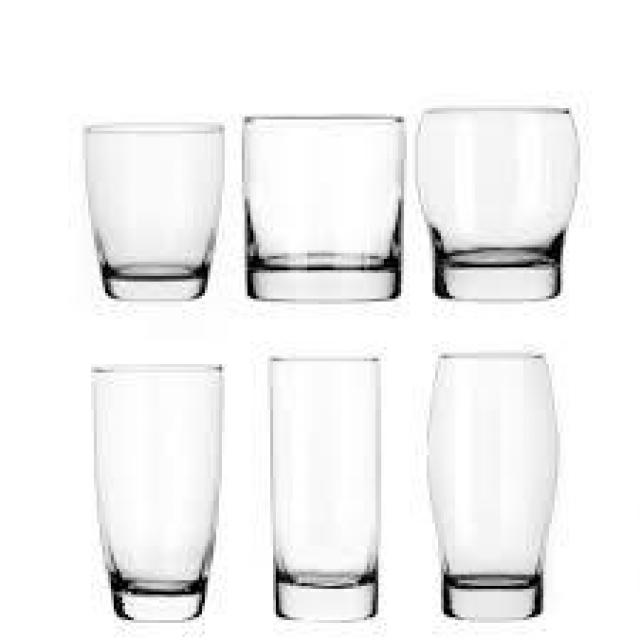non-organic waste: (424, 353, 560, 623), (93, 363, 226, 624), (414, 103, 582, 304), (266, 353, 385, 620), (241, 111, 408, 301), (81, 121, 226, 303)
